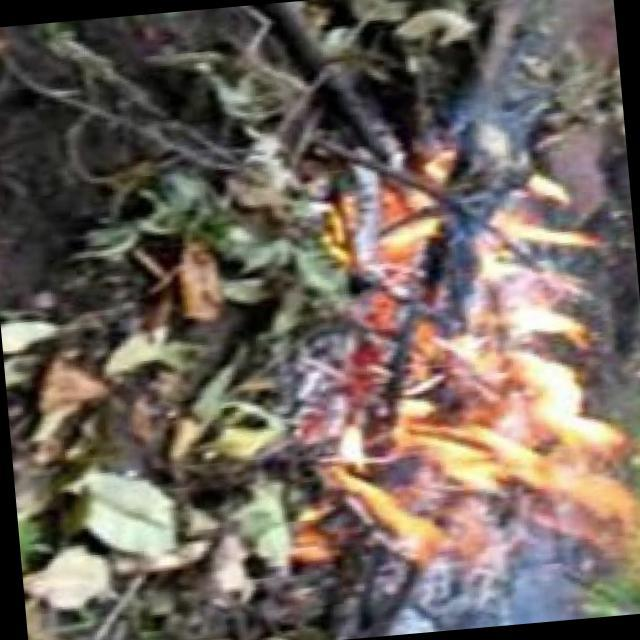Fire: (291, 116, 640, 595)
